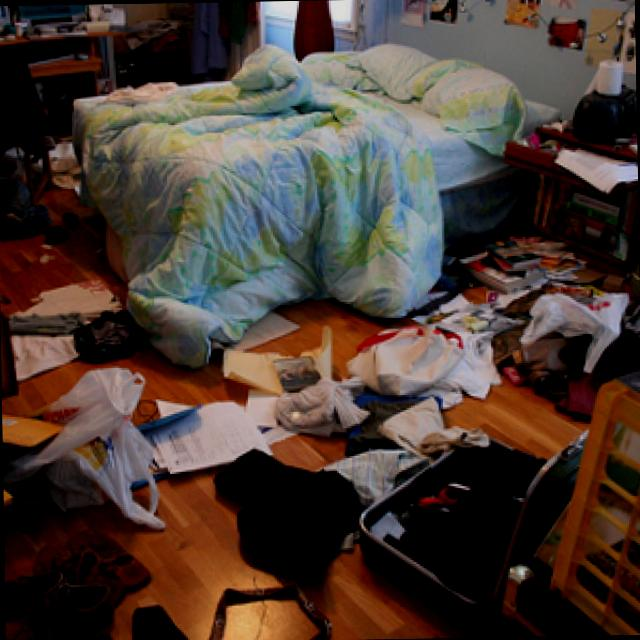mess: (0, 305, 640, 640), (76, 41, 525, 201), (0, 85, 104, 345), (438, 228, 640, 314), (516, 148, 630, 278), (552, 66, 638, 170), (0, 2, 175, 48)
